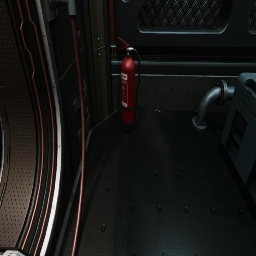FireExtinguisher ]: (118, 37, 141, 134)
